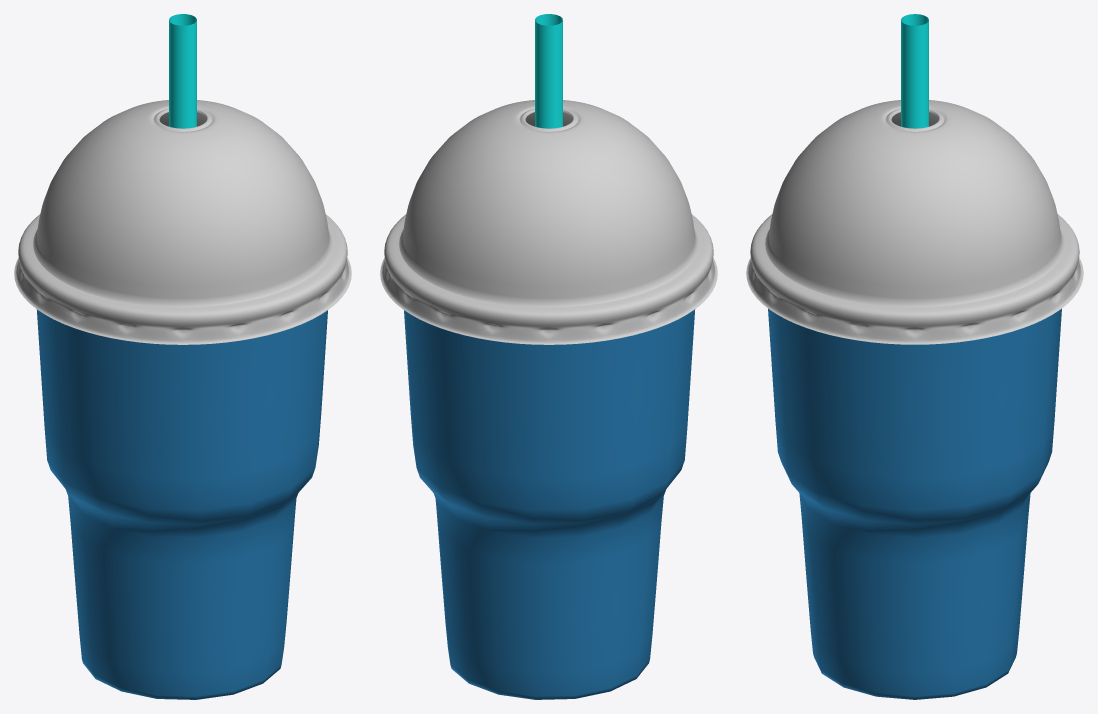
3 renders of one model, left to right at view 1: azimuth 30°, elevation 25°; view 2: azimuth 150°, elevation 25°; view 3: azimuth 270°, elevation 25°, orthographic.
Parts seen in each view (by area): view 1: cup, lid, straw; view 2: cup, lid, straw; view 3: cup, lid, straw.
Part boxes in pixels (x1=…): cup: x1=36, y1=309, x2=327, y2=699; lid: x1=14, y1=100, x2=351, y2=344; straw: x1=169, y1=14, x2=196, y2=128; cup: x1=404, y1=309, x2=695, y2=699; lid: x1=380, y1=100, x2=717, y2=344; straw: x1=535, y1=14, x2=562, y2=128; cup: x1=768, y1=308, x2=1061, y2=699; lid: x1=746, y1=100, x2=1083, y2=344; straw: x1=901, y1=14, x2=928, y2=128.
Bounding box in the file's own units: 16.22 × 16.22 × 33.82.
